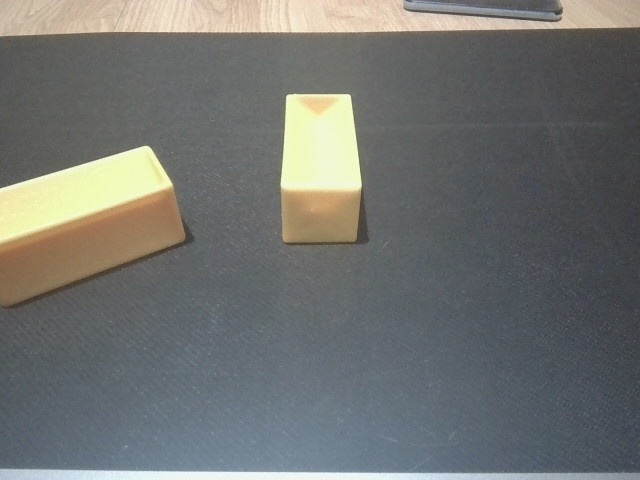YellowSample: (1, 141, 188, 310), (274, 89, 366, 247)
